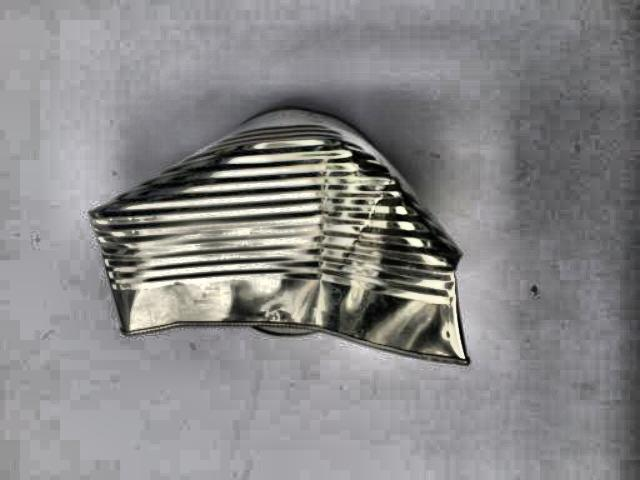Almennt: (64, 74, 484, 404)
